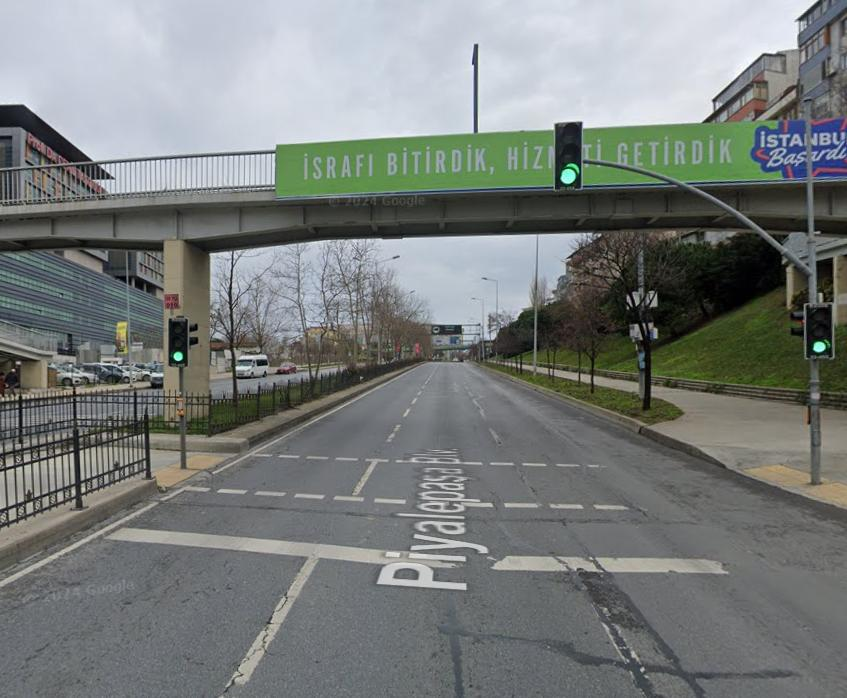greenlight: (553, 123, 582, 191), (806, 300, 835, 360), (164, 315, 191, 365)
